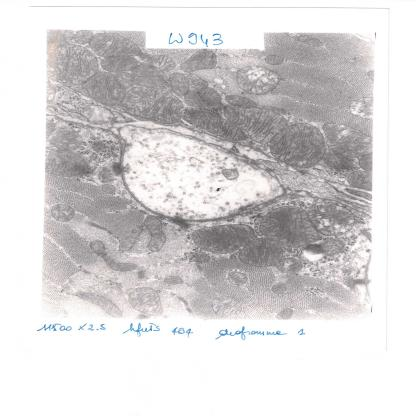mitochondria: (268, 123, 328, 169), (259, 205, 323, 247), (222, 106, 288, 144), (183, 106, 250, 143), (119, 87, 184, 125), (46, 44, 101, 86), (191, 224, 255, 255), (307, 200, 356, 236), (321, 122, 371, 155), (82, 72, 127, 107), (88, 240, 137, 272), (89, 31, 143, 58), (235, 65, 282, 95), (238, 238, 285, 266), (76, 290, 124, 317), (44, 152, 92, 178), (128, 287, 164, 316), (48, 124, 84, 152), (142, 215, 167, 252), (126, 64, 168, 86), (181, 50, 218, 72), (211, 294, 242, 318), (185, 87, 222, 107), (118, 225, 145, 252), (100, 55, 138, 72), (167, 71, 189, 96), (346, 169, 372, 190), (286, 32, 324, 46), (48, 203, 74, 223), (224, 94, 258, 108), (275, 258, 303, 274), (320, 238, 346, 255), (150, 55, 175, 70), (226, 270, 249, 286), (185, 73, 209, 88), (72, 30, 94, 44), (358, 152, 372, 174), (190, 252, 212, 264), (275, 308, 295, 320), (265, 54, 284, 66), (163, 276, 185, 286), (222, 168, 239, 180), (272, 282, 286, 296), (101, 181, 116, 194)
